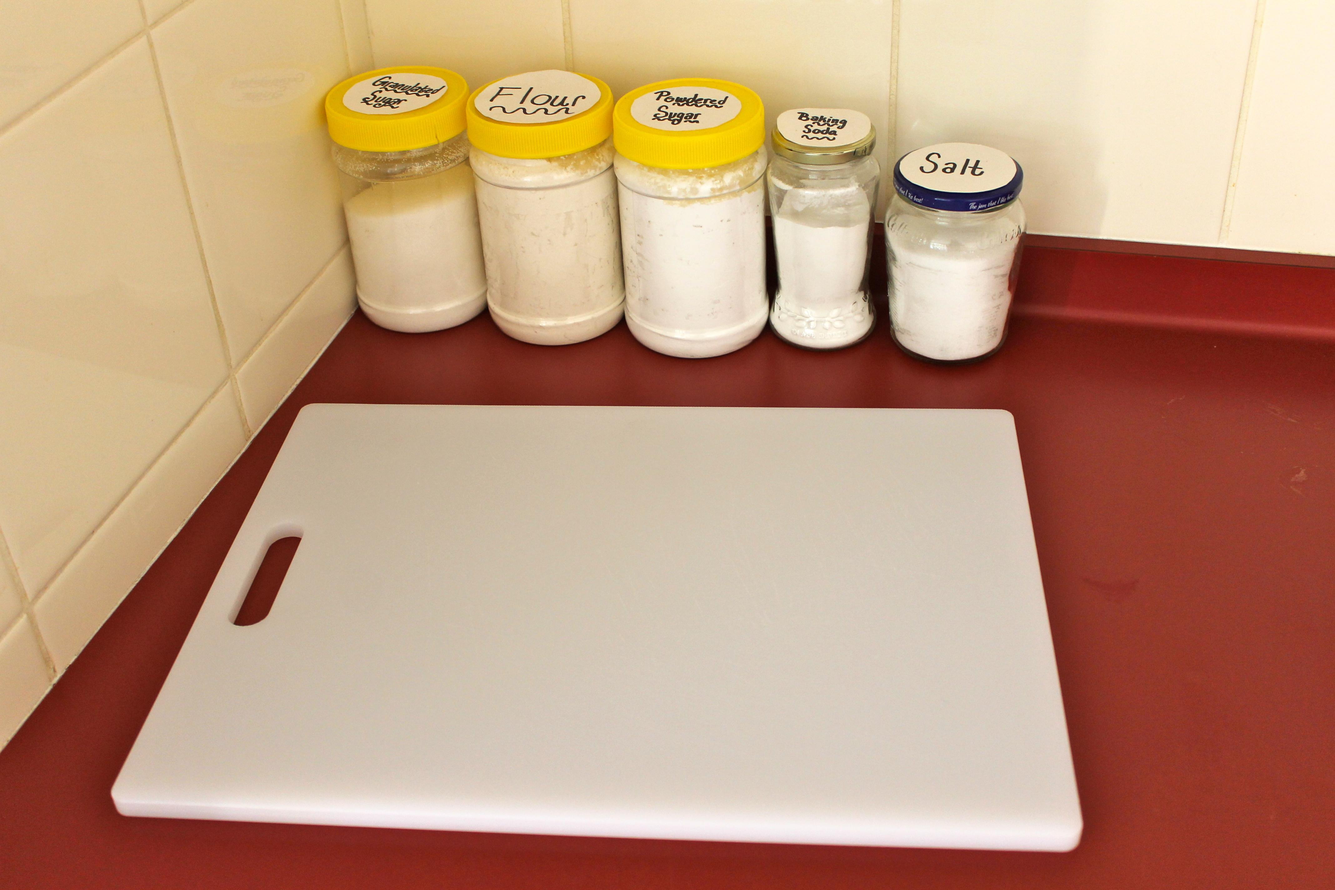gloved_hand: (101, 382, 1110, 871)
